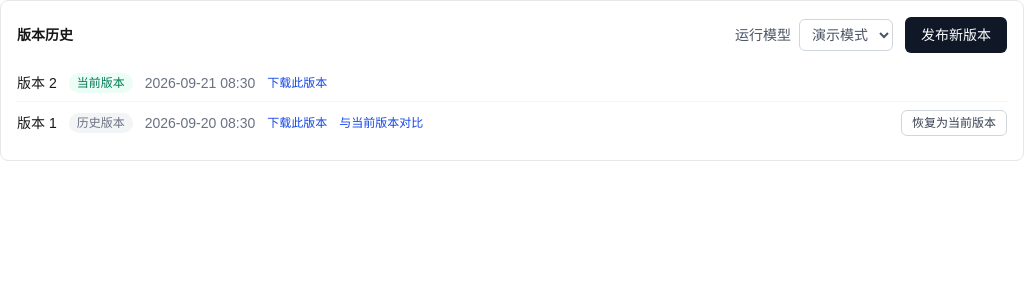
VersionPanel › 发布成功但存在控制面豁免项时展示提醒与问题标题
Step 1. Click the button "发布新版本" → (956, 35), box [905,17,1007,53]
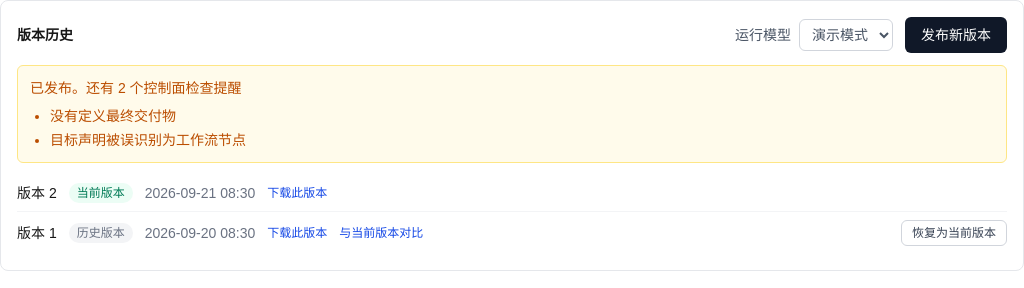
expect the text "已发布。还有 2 个控制面检查提醒" is shown: met, box [30,80,242,96]
expect the list item "没有定义最终交付物" is shown: met, box [50,108,176,124]
expect the list item "目标声明被误识别为工作流节点" is shown: met, box [50,132,246,148]
